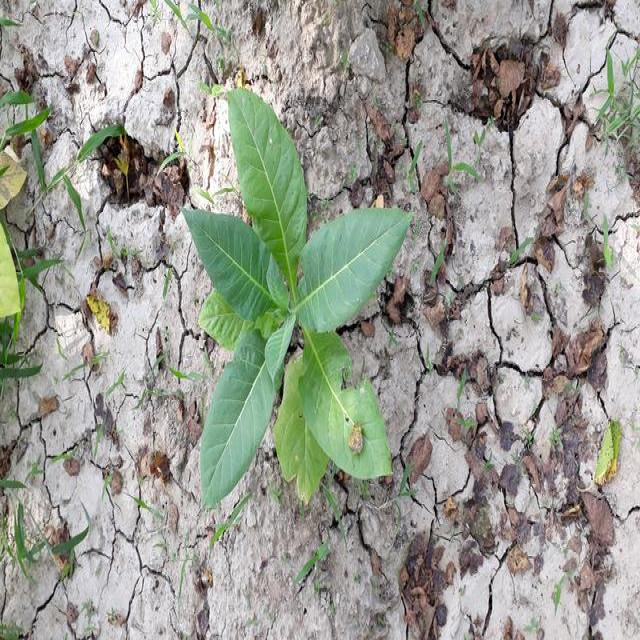crop: (169, 81, 417, 532)
